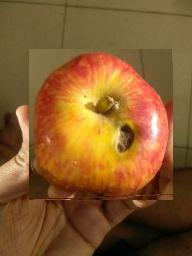Apple Semirotten: (30, 50, 174, 201)
